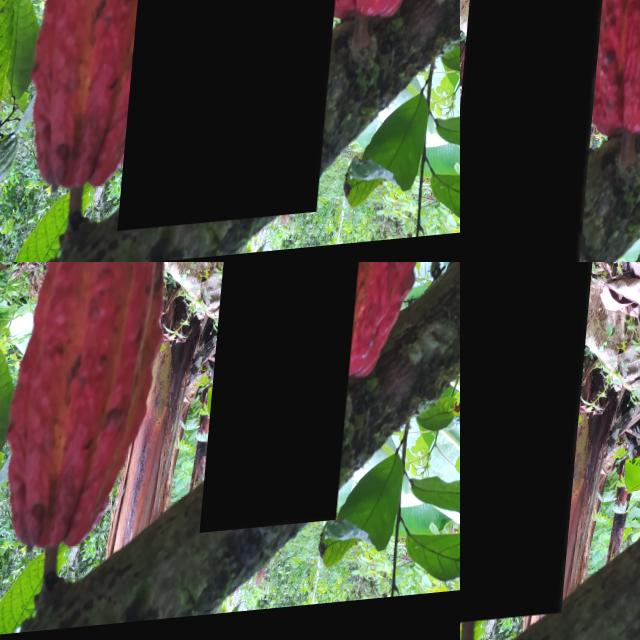Monilia: (460, 0, 618, 262)
Sana: (128, 0, 370, 234), (460, 262, 599, 628), (209, 262, 371, 539), (85, 262, 242, 422)
